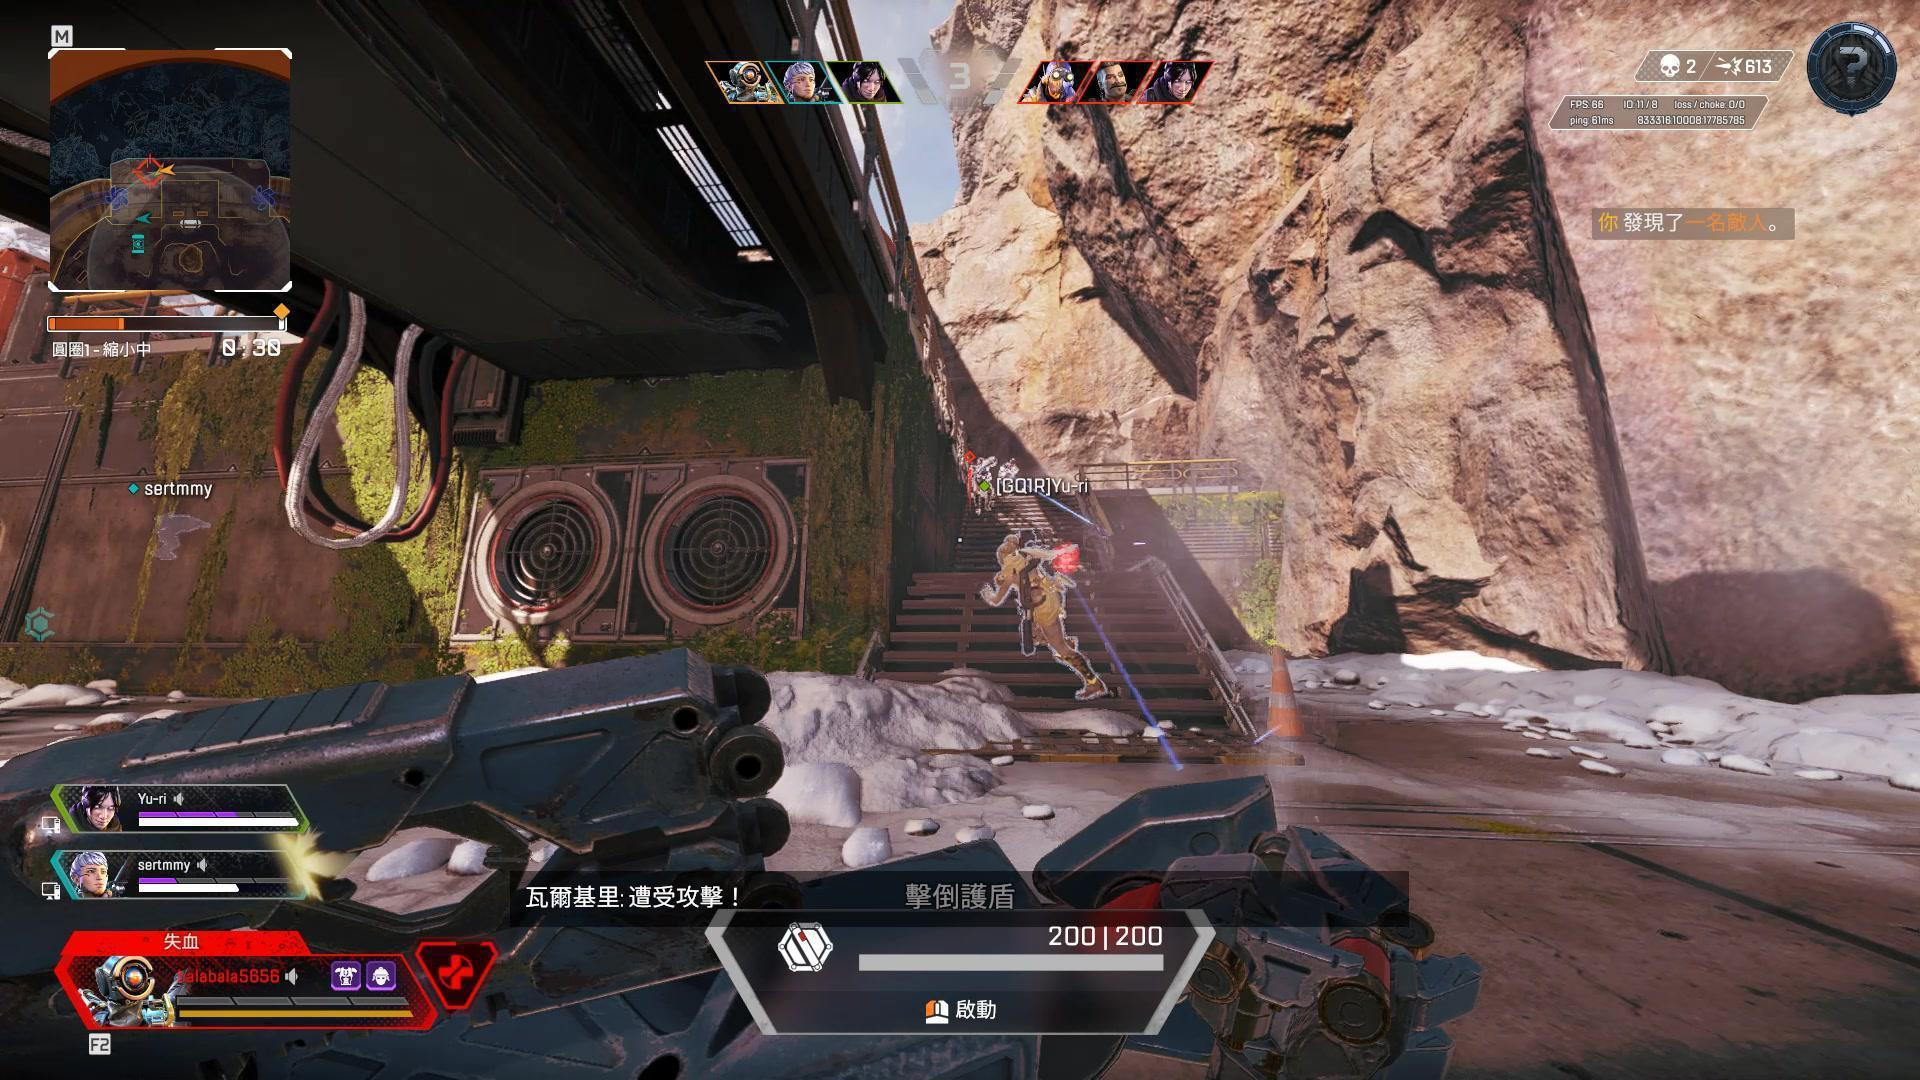avatar: (976, 530, 1111, 703)
